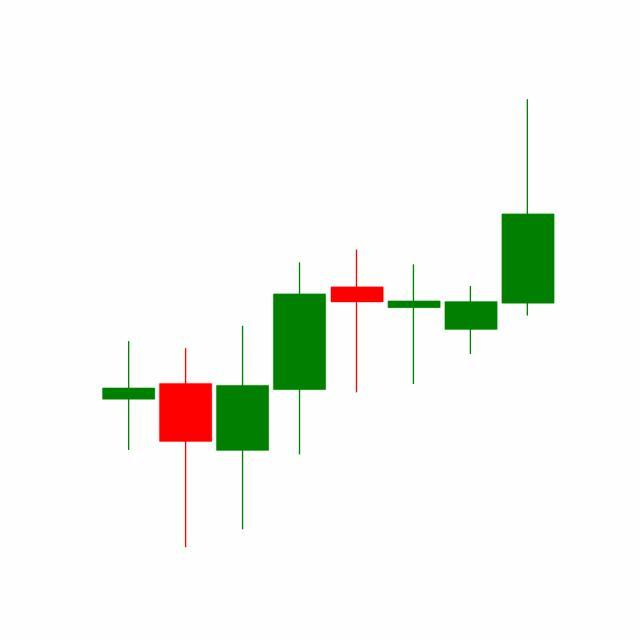Hikkake Pattern: (270, 100, 555, 461)
